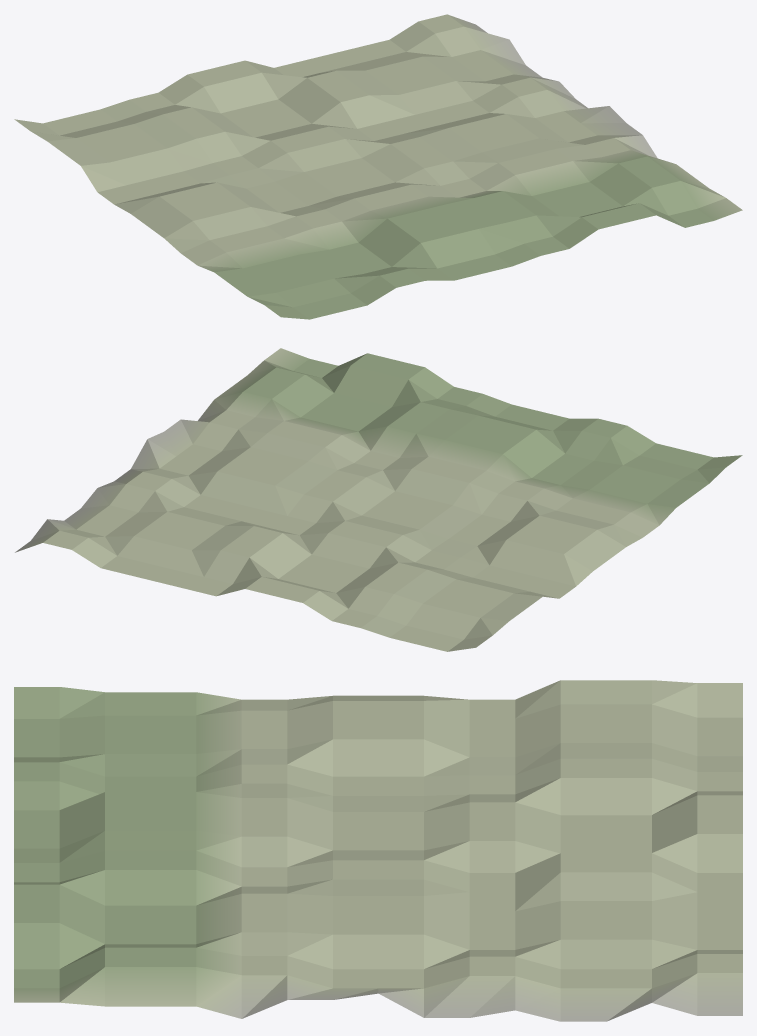
3 renders of one model, top to bottom at view 1: azimuth 30°, elevation 25°; view 2: azimuth 150°, elevation 25°; view 3: azimuth 270°, elevation 25°, orthographic. The views are drawn at different scales.
Size of the model in its own units: 32 by 1.98 by 32.
